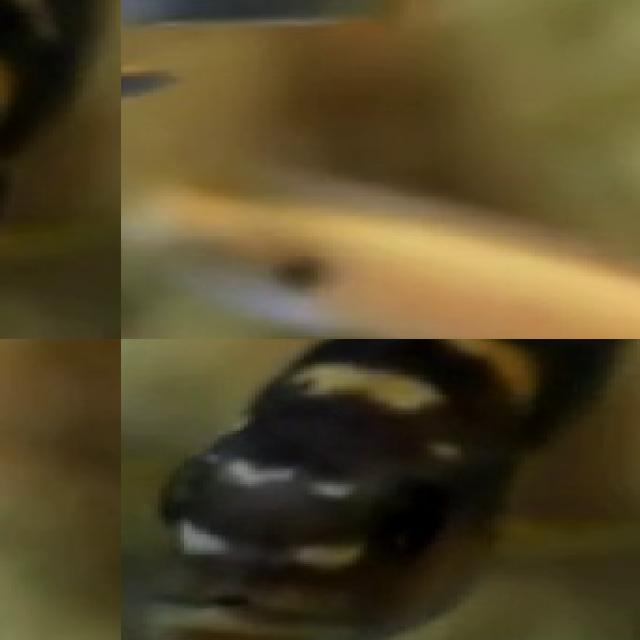fish: (135, 339, 640, 640), (0, 0, 121, 339)
